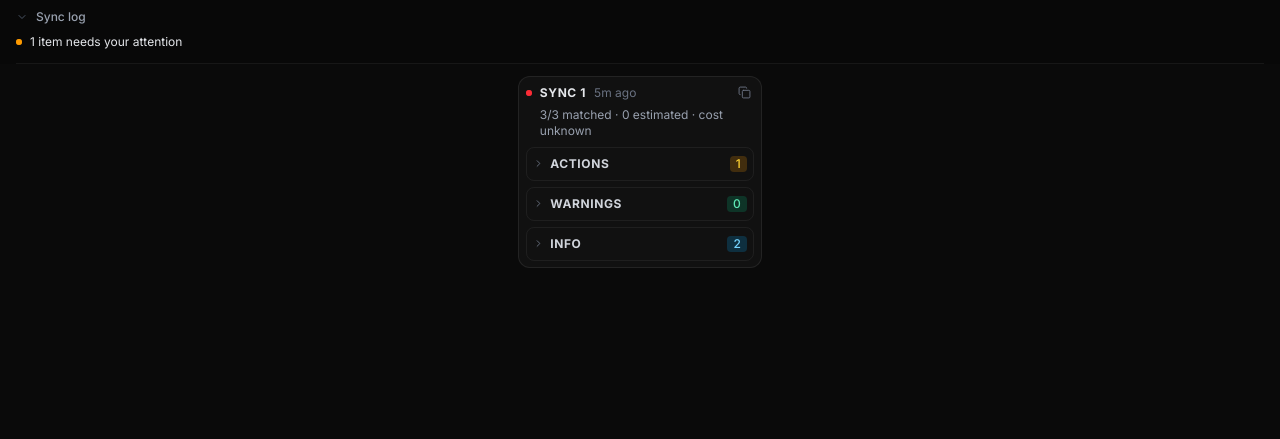
Test: live actions › missing media raises the headline, offers Add media, and clears itself when media arrives
This screenshot has width=1280, height=439.
Click the button "Actions": (626, 164) [533,148,719,180]
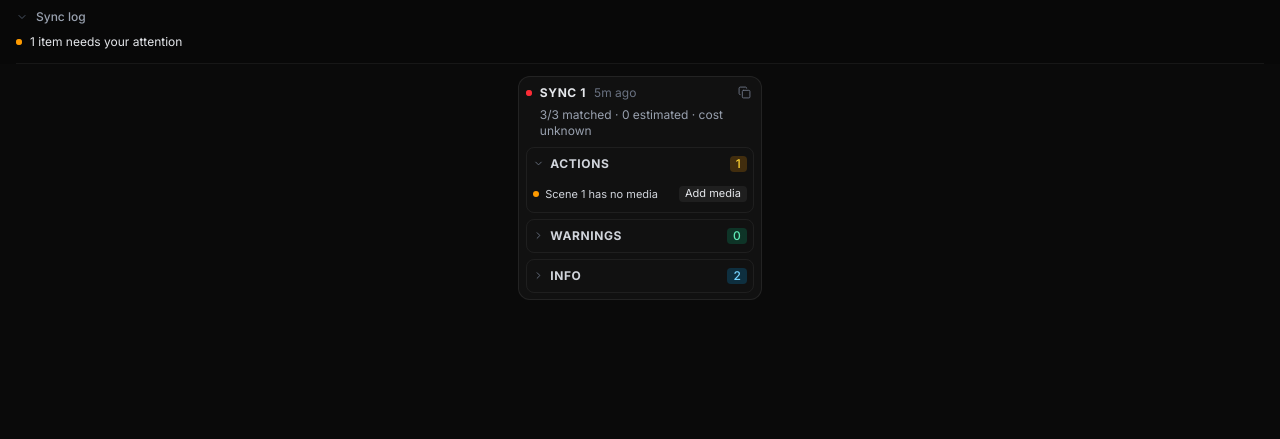
expect the button "Scene 1 has no media" is shown: met
Click the button "Scene 1 has no media": (609, 194) [545,186,673,202]
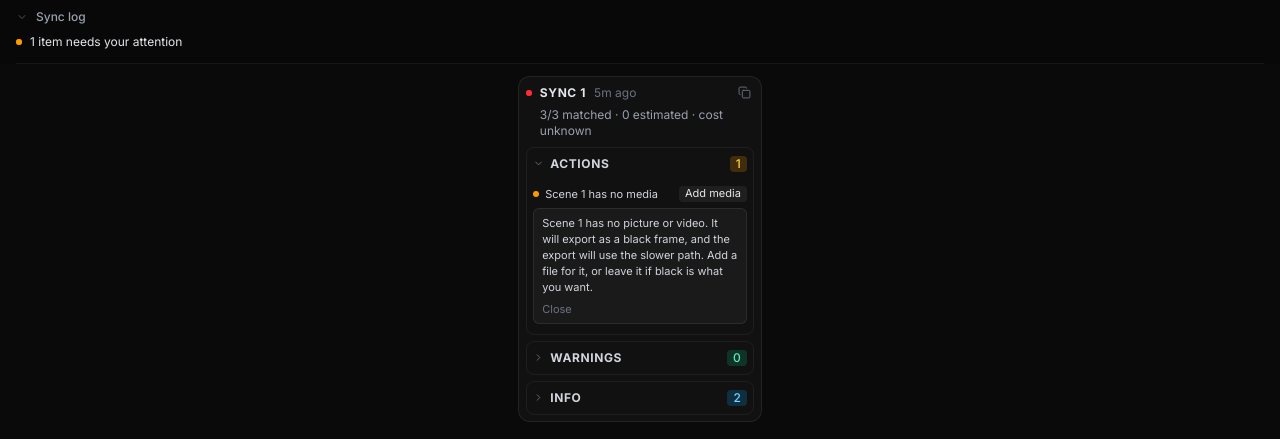
expect the button with test id "sync-cta" is shown: met
Click the button with test id "sync-cta": (713, 194) [679,186,747,202]
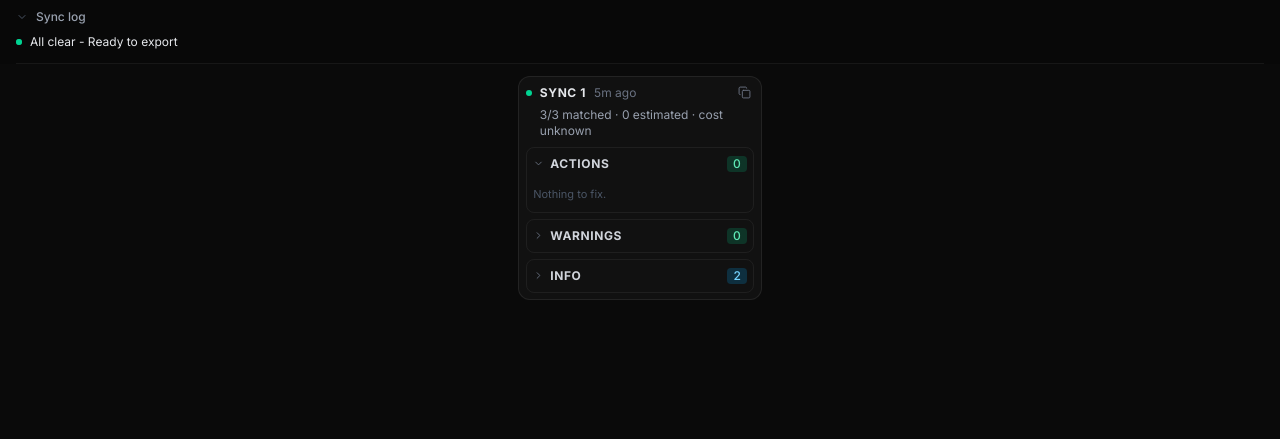
expect the text with test id "sync-status-text" reads "All clear - Ready to export": met, box [30,34,178,49]
